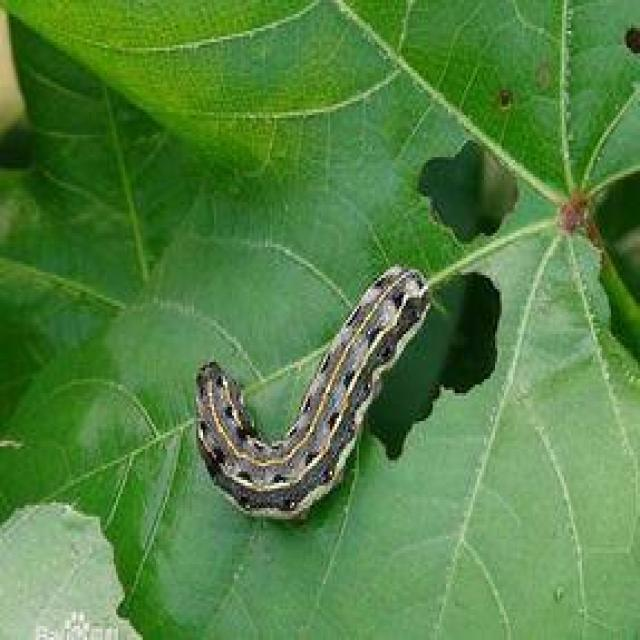BeetArmyWorm-Larva-: (193, 256, 445, 533)
